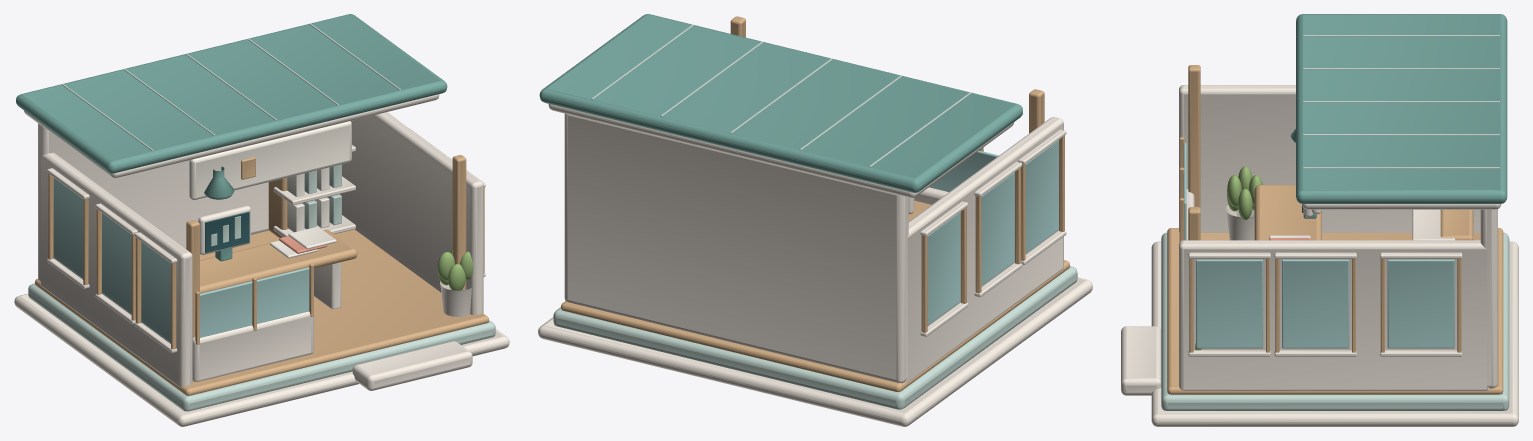
The model's file is research-lab.glb.
3 views of the same model, side by side, from view 1: azimuth 30°, elevation 25°; view 2: azimuth 150°, elevation 25°; view 3: azimuth 270°, elevation 25° (orthographic). The views are drawn at different scales.
Visible parts, largest first — view 1: ResearchLab; view 2: ResearchLab; view 3: ResearchLab.
Part boxes in pixels (x1=…): ResearchLab: x1=14, y1=14, x2=509, y2=426; ResearchLab: x1=538, y1=14, x2=1092, y2=426; ResearchLab: x1=1121, y1=14, x2=1518, y2=426.
Bounding box in the file's own units: 5.48 × 3.38 × 5.09.
